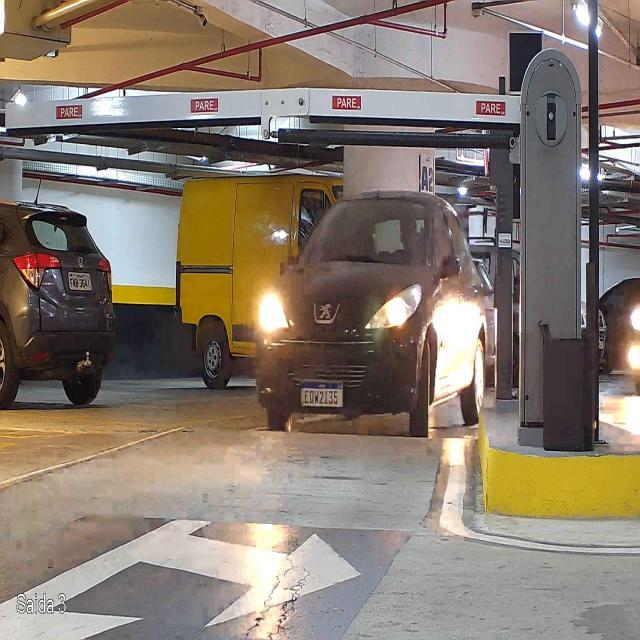mercosul_plate: (298, 381, 344, 408)
